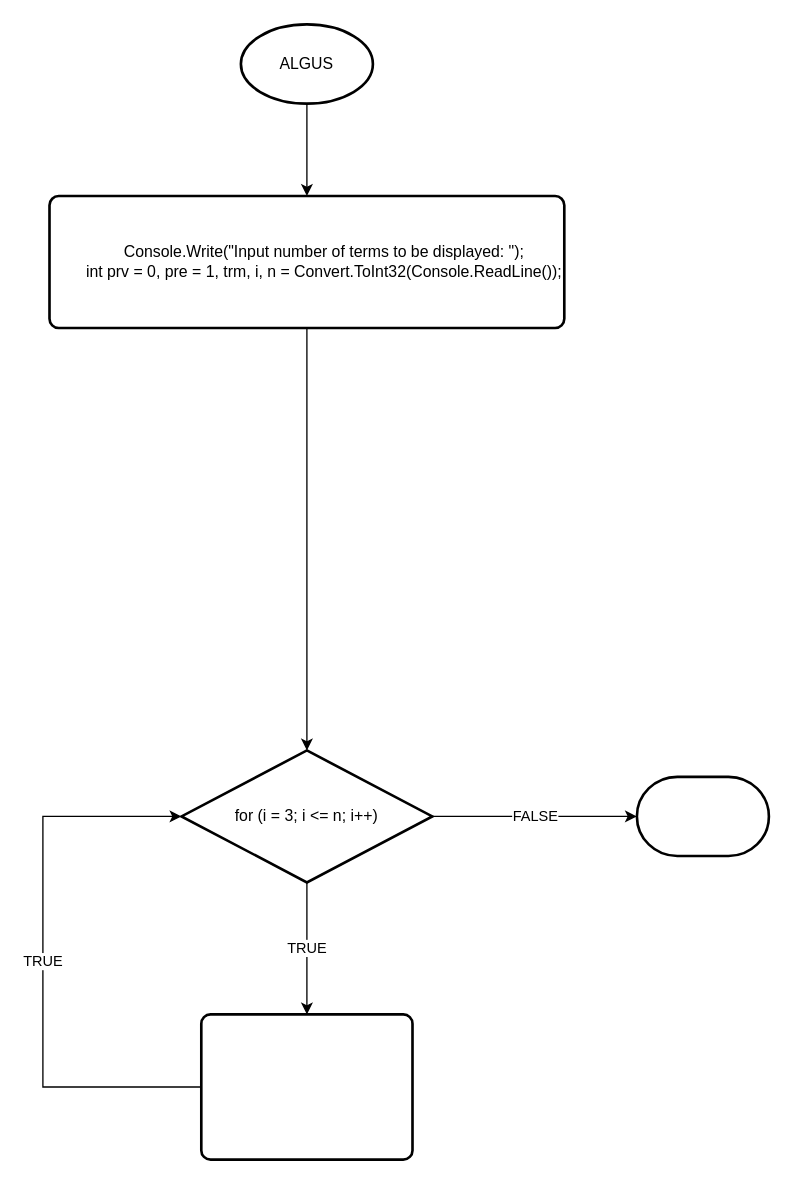
Image size: 792x1183. Some labels were removed from this diagram. The centre of each missing label's shape, as x and y in pixels:
LÕPP: [702,816]
trm = prv + pre; Console.Write(" {0} ", trm); prv = pre; pre = trm;: [306,1086]
